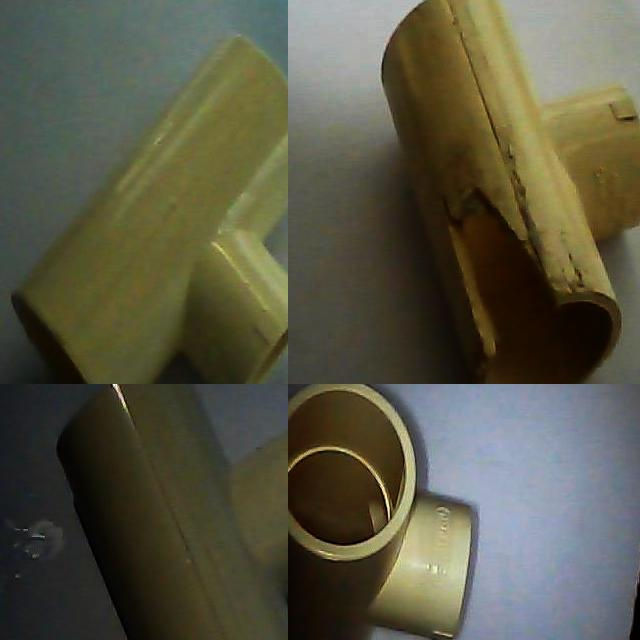Defective: (438, 188, 566, 360), (452, 215, 561, 357)
T Joint: (380, 0, 640, 384), (10, 36, 288, 384), (56, 384, 288, 640), (288, 384, 480, 640)
